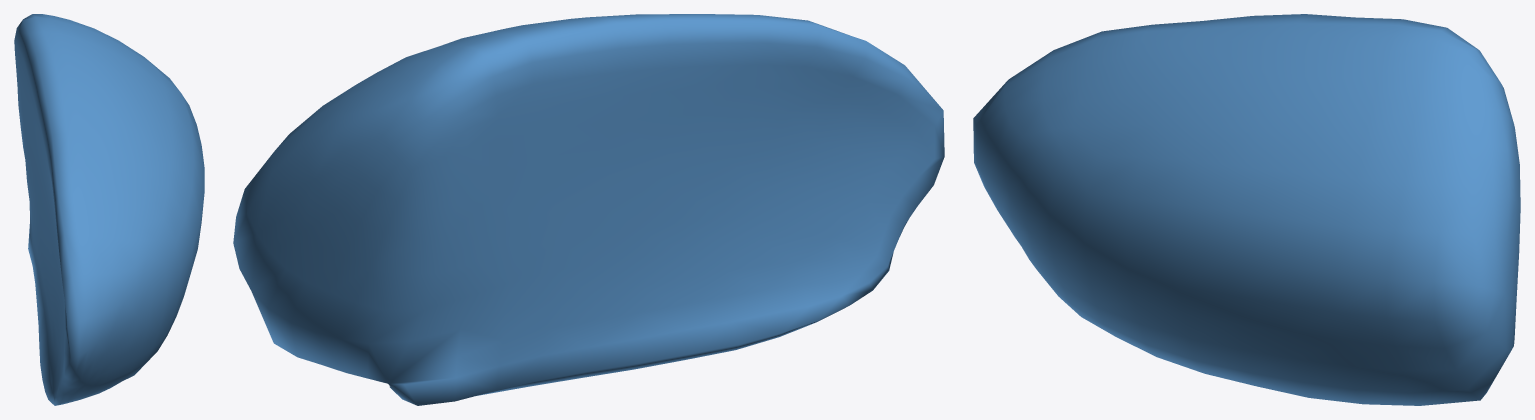
The model's file is tripo_node_009b0717.001.glb.
The picture shows the model from 3 angles, left to right: view 1: azimuth 30°, elevation 25°; view 2: azimuth 150°, elevation 25°; view 3: azimuth 270°, elevation 25°; orthographic projection. The views are drawn at different scales.
Visible parts, largest first — view 1: tripo_node_009b0717.001; view 2: tripo_node_009b0717.001; view 3: tripo_node_009b0717.001.
Part boxes in pixels (box(x1,y1,x2,y2)): tripo_node_009b0717.001: box(14, 14, 204, 405); tripo_node_009b0717.001: box(233, 14, 944, 405); tripo_node_009b0717.001: box(973, 14, 1520, 405).
Size of the model in its own units: 0.0385 by 0.0314 by 0.0465.
